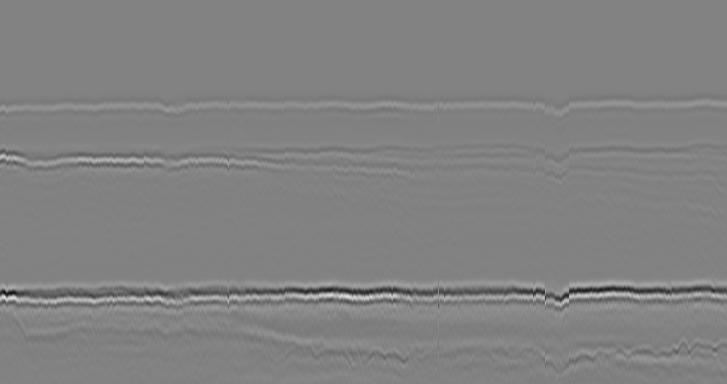fault: (536, 85, 575, 134), (540, 142, 577, 192)
